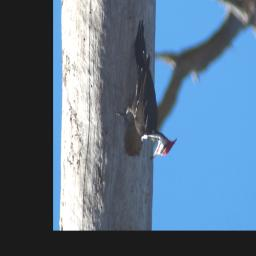Woodpecker: (114, 19, 178, 161)
